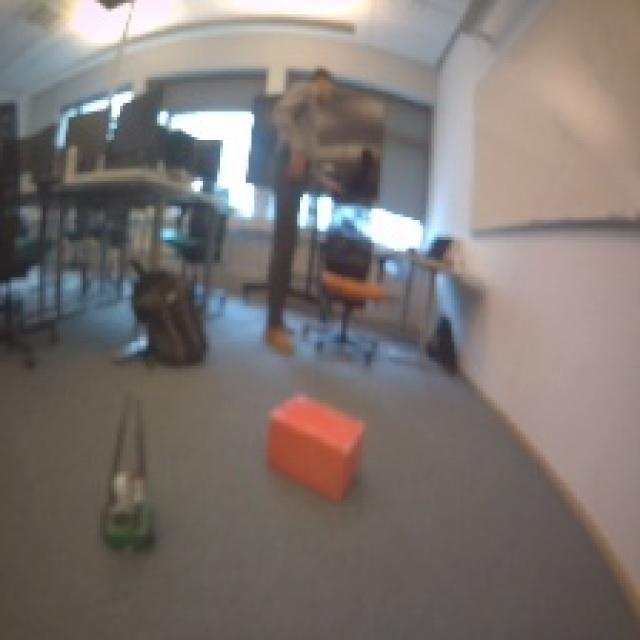robot: (97, 481, 160, 548)
target: (263, 389, 366, 500)
